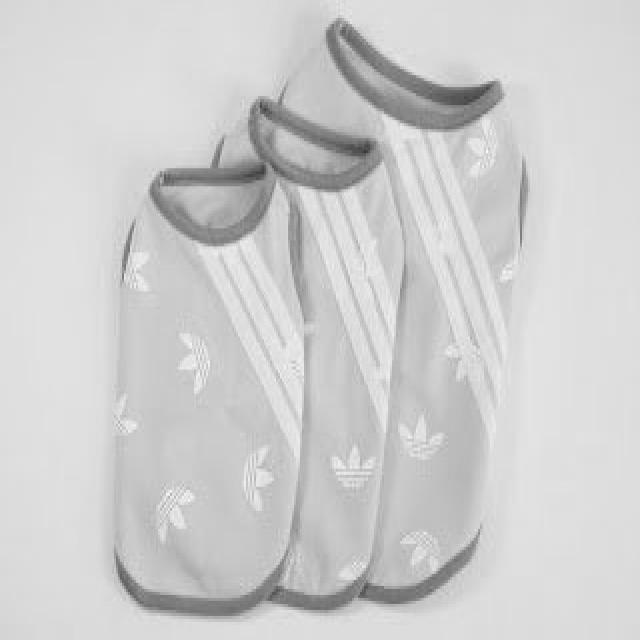Adidas: (166, 316, 226, 412), (452, 99, 510, 198), (428, 304, 486, 394), (234, 427, 286, 523), (322, 430, 382, 505), (390, 403, 450, 472), (150, 481, 200, 553), (394, 520, 452, 580)
